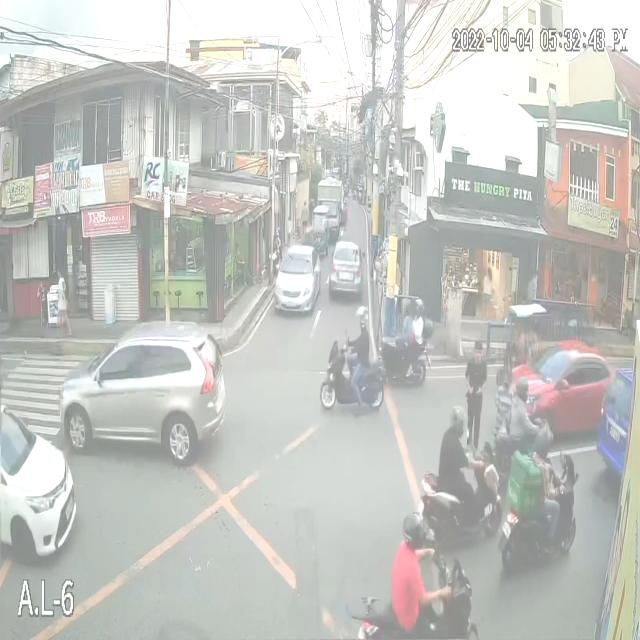Full-Faced: (533, 420, 552, 460), (515, 378, 532, 401), (398, 294, 412, 317), (410, 298, 424, 317)
Half-Faced: (399, 504, 430, 550), (447, 402, 467, 435), (353, 300, 370, 330)
